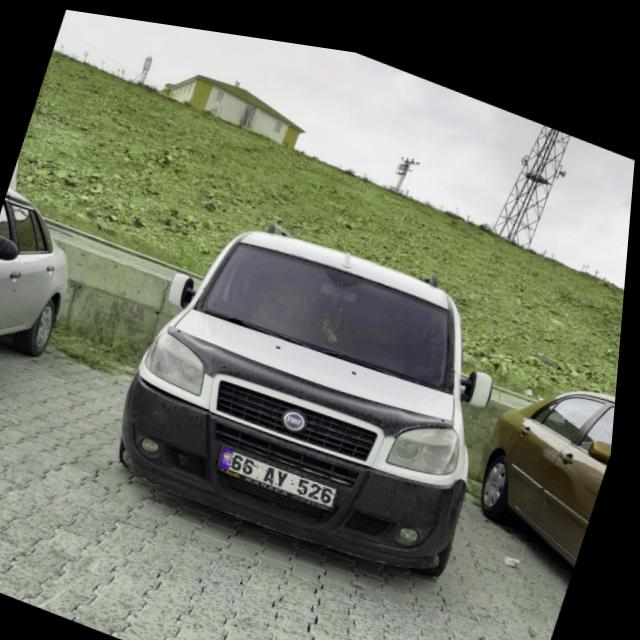license_plate: (224, 438, 346, 497)
